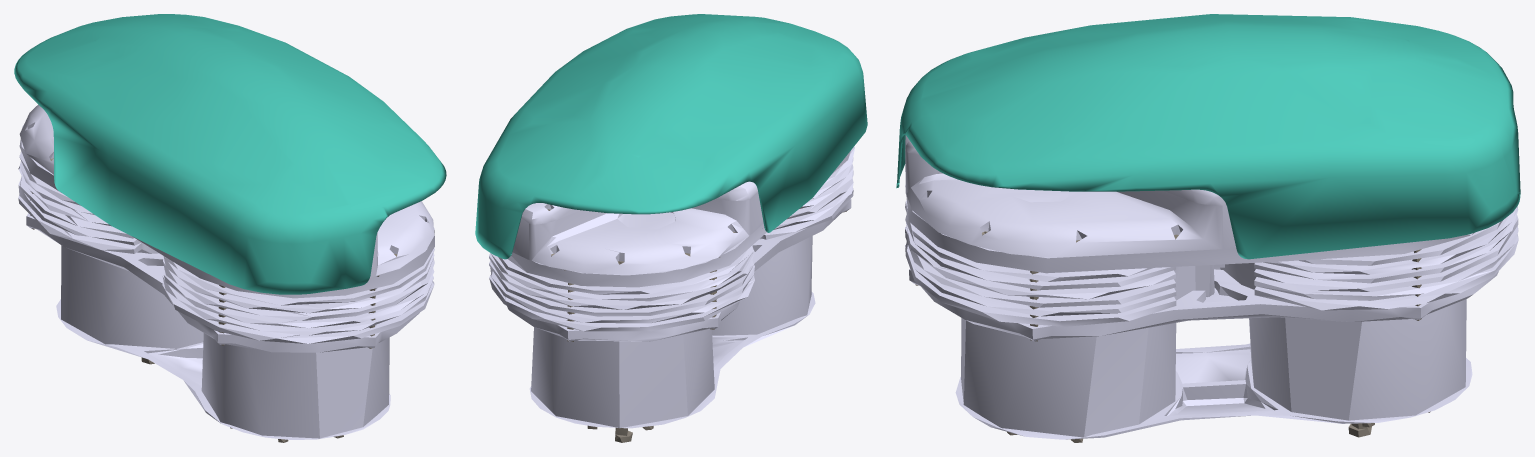
The model's file is left-hip-pitch.obj.
3 renders of one model, left to right at view 1: azimuth 30°, elevation 25°; view 2: azimuth 150°, elevation 25°; view 3: azimuth 270°, elevation 25°, orthographic. The views are drawn at different scales.
Visible parts, largest first — view 1: left_hip_pitch; view 2: left_hip_pitch; view 3: left_hip_pitch.
Boxes of the visible parts, x1=… form: left_hip_pitch: x1=14, y1=14, x2=446, y2=442; left_hip_pitch: x1=475, y1=14, x2=867, y2=442; left_hip_pitch: x1=896, y1=14, x2=1520, y2=442.
Size of the model in its own units: 0.1504 by 0.1821 by 0.2567.
Materials: 1 (1 with a texture image).
